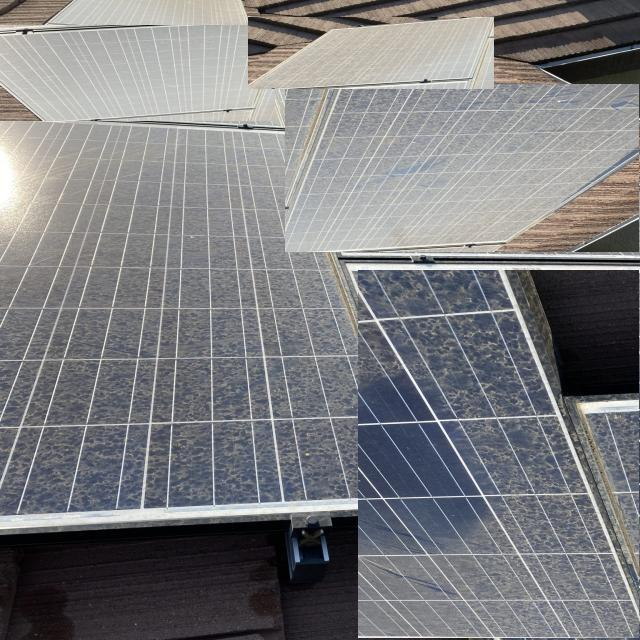Non Defective: (0, 118, 417, 519), (359, 271, 639, 638), (286, 85, 640, 252), (0, 26, 275, 121), (250, 18, 494, 89)
